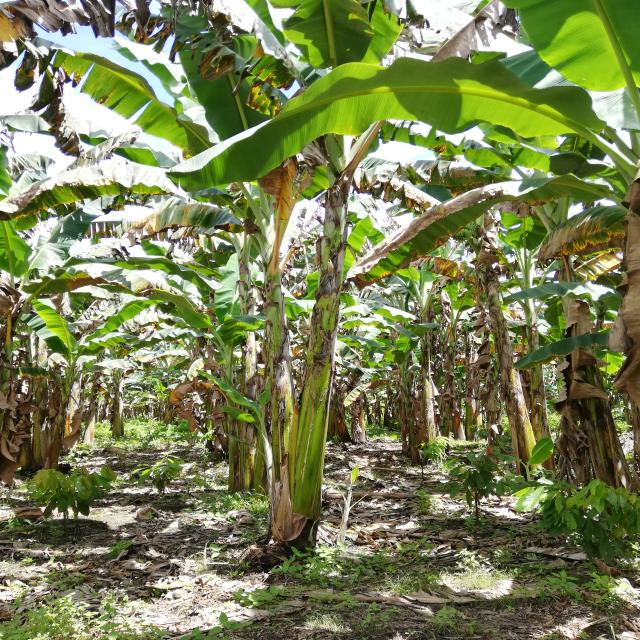Banana-plant: (250, 166, 365, 565), (468, 250, 539, 483), (218, 229, 256, 496)
